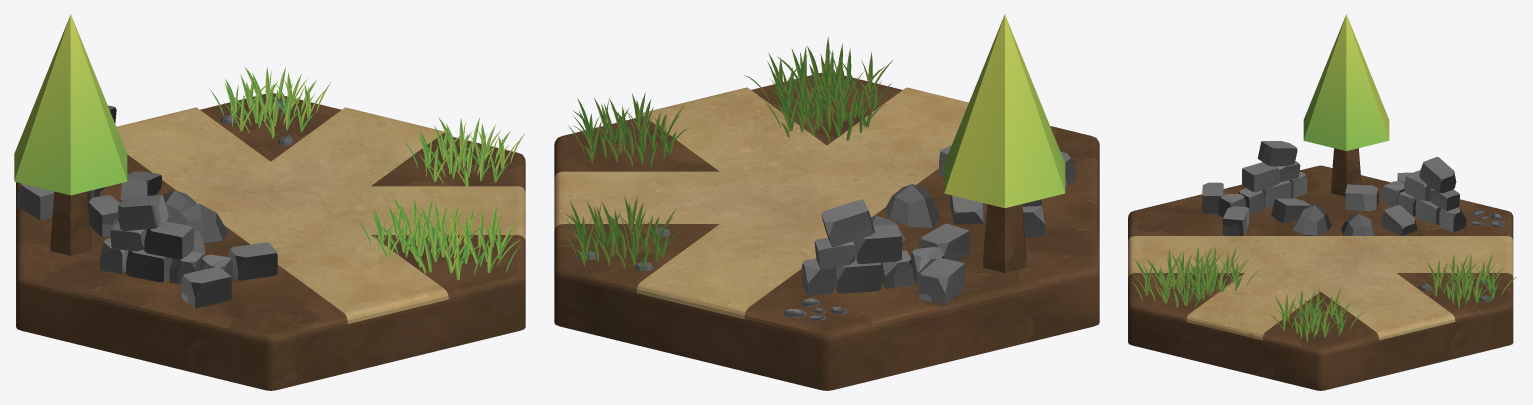
File: Road_TutType7.fbx
3 views of the same model, side by side, from view 1: azimuth 30°, elevation 25°; view 2: azimuth 150°, elevation 25°; view 3: azimuth 270°, elevation 25° (orthographic). The views are drawn at different scales.
Parts seen in each view (by area): view 1: Object009; view 2: Object009; view 3: Object009.
Boxes of the visible parts, <box> form: Object009: <box>14,14,525,390</box>; Object009: <box>554,14,1099,390</box>; Object009: <box>1128,14,1517,390</box>.
Bounding box in the file's own units: 99.5 × 53.53 × 87.82.
